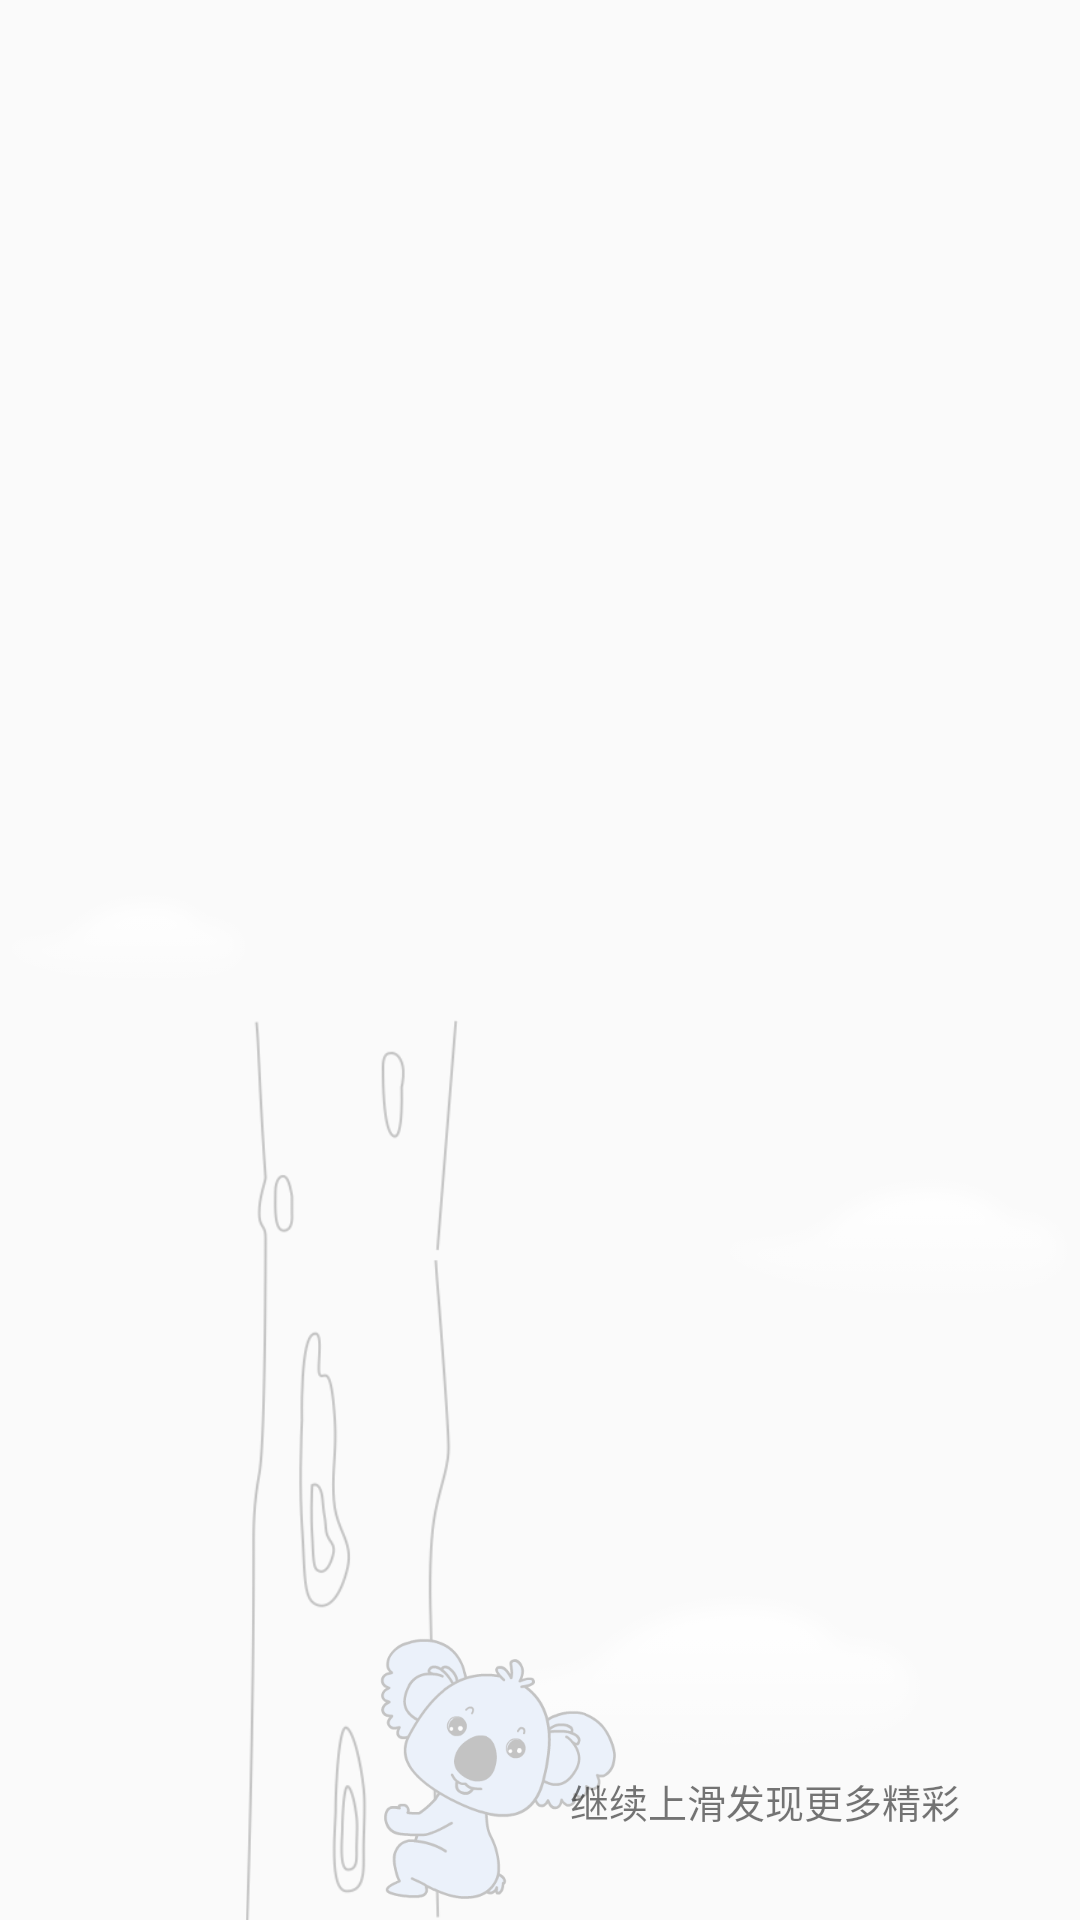

Icon click points for this 1080 × 1920 phone screenshot, format (x,y):
koala anim: (496,1768)
